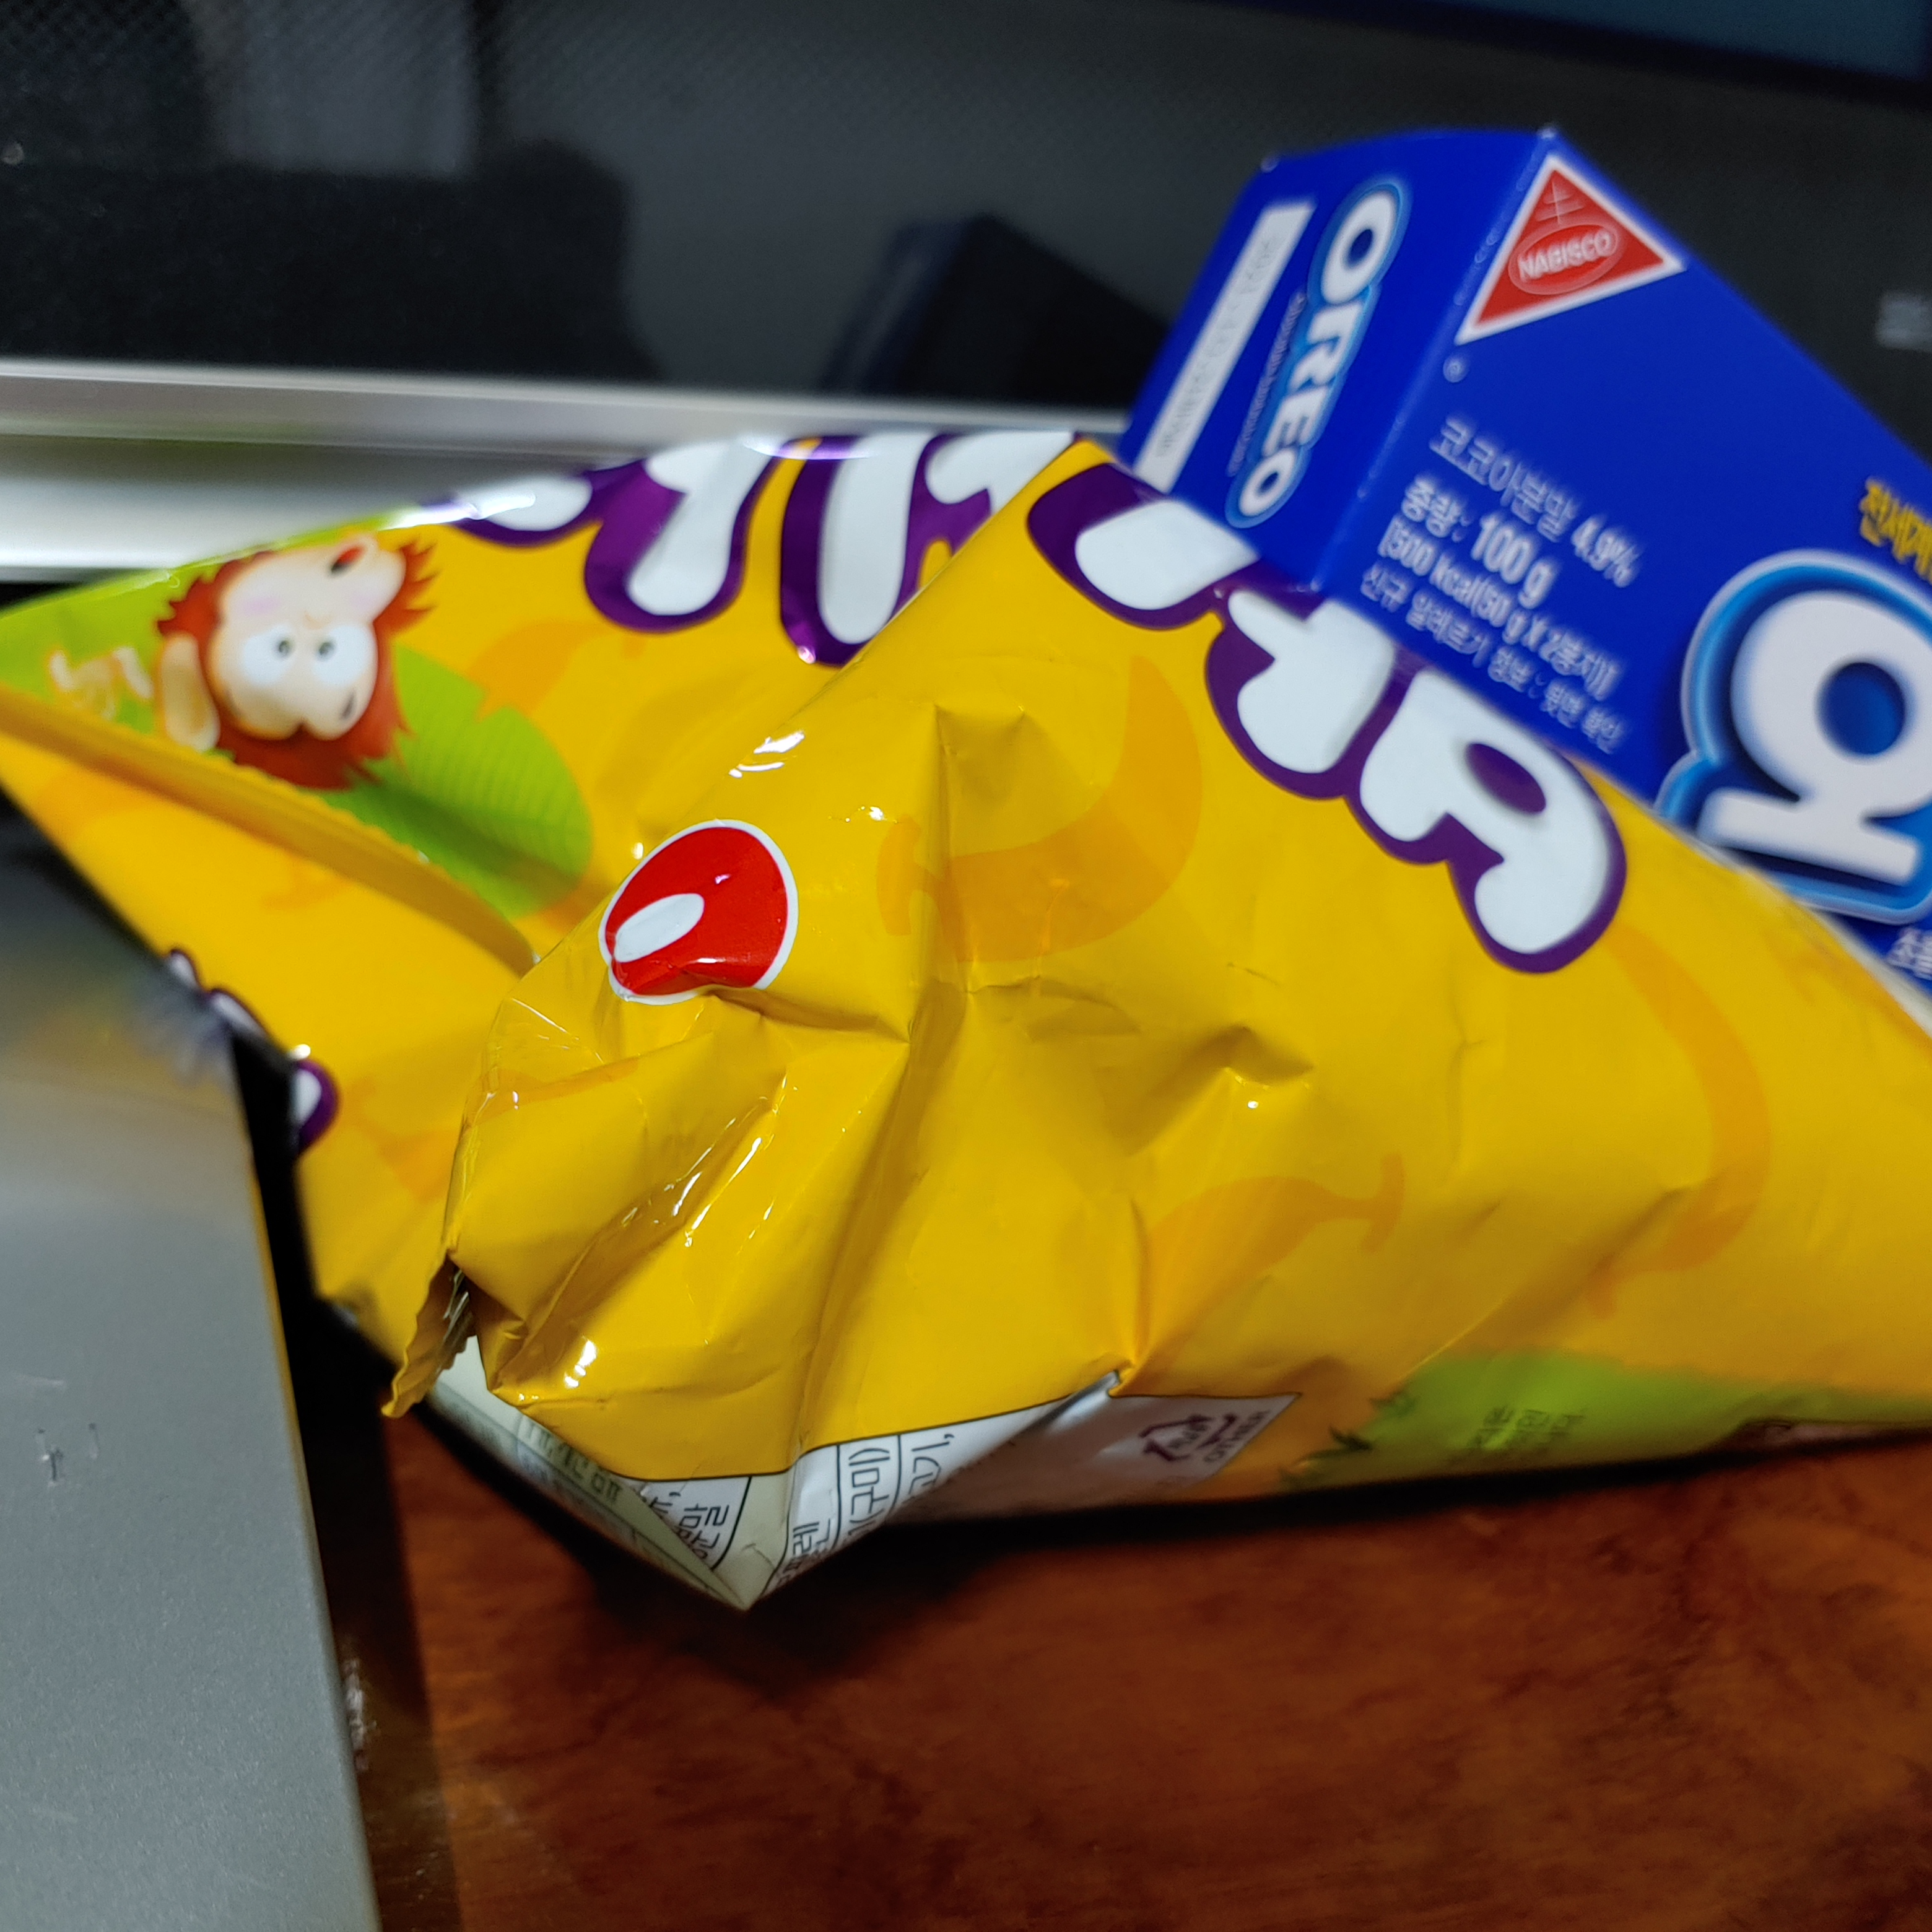banana: (4, 281, 1932, 1652)
oreo: (1077, 34, 1932, 1005)
